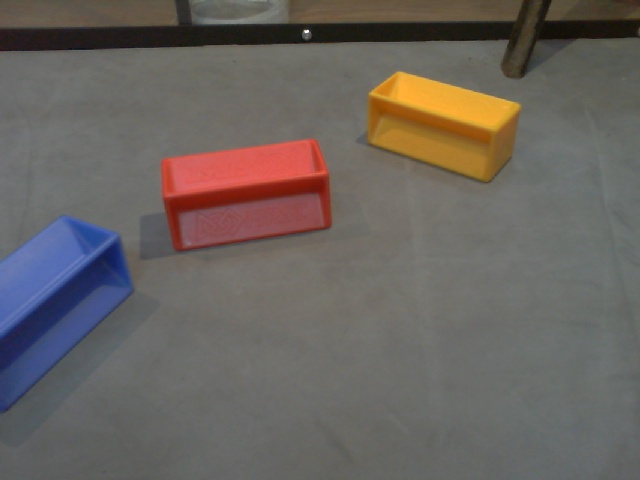BlueSample: (1, 211, 135, 418)
RedSample: (157, 137, 333, 253)
YellowSample: (359, 71, 522, 187)
